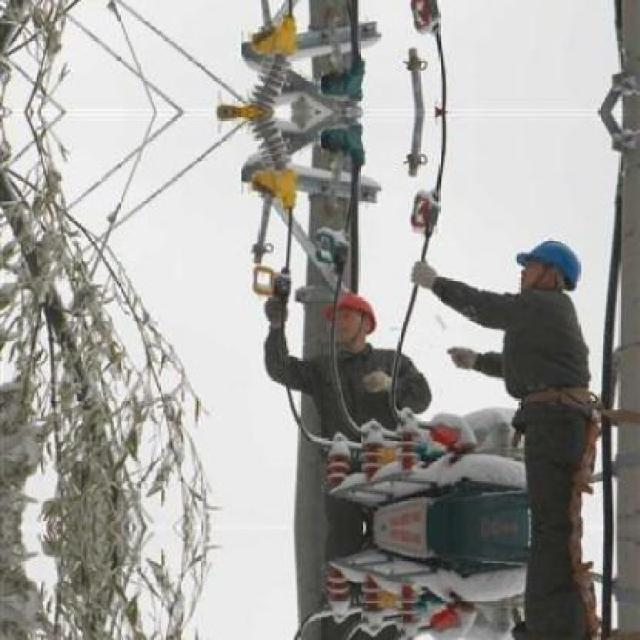helmet: (506, 229, 582, 297), (317, 283, 380, 337)
